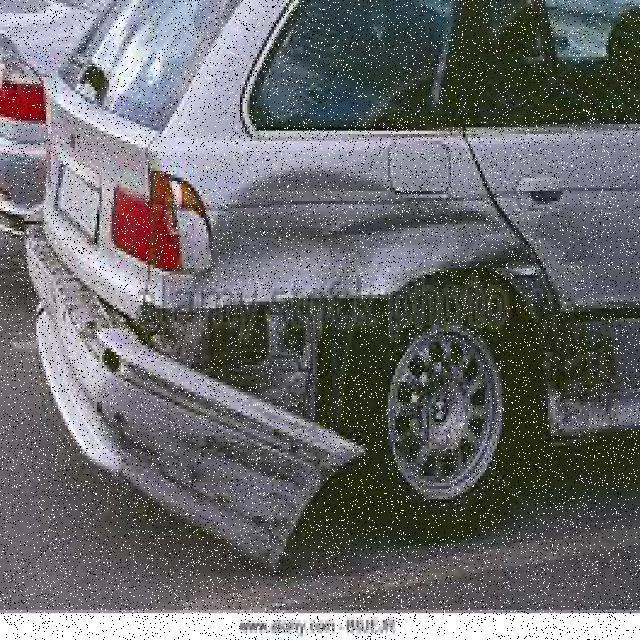quaterpanel-dent: (215, 124, 470, 328)
rear-bumper-dent: (12, 302, 376, 576)
